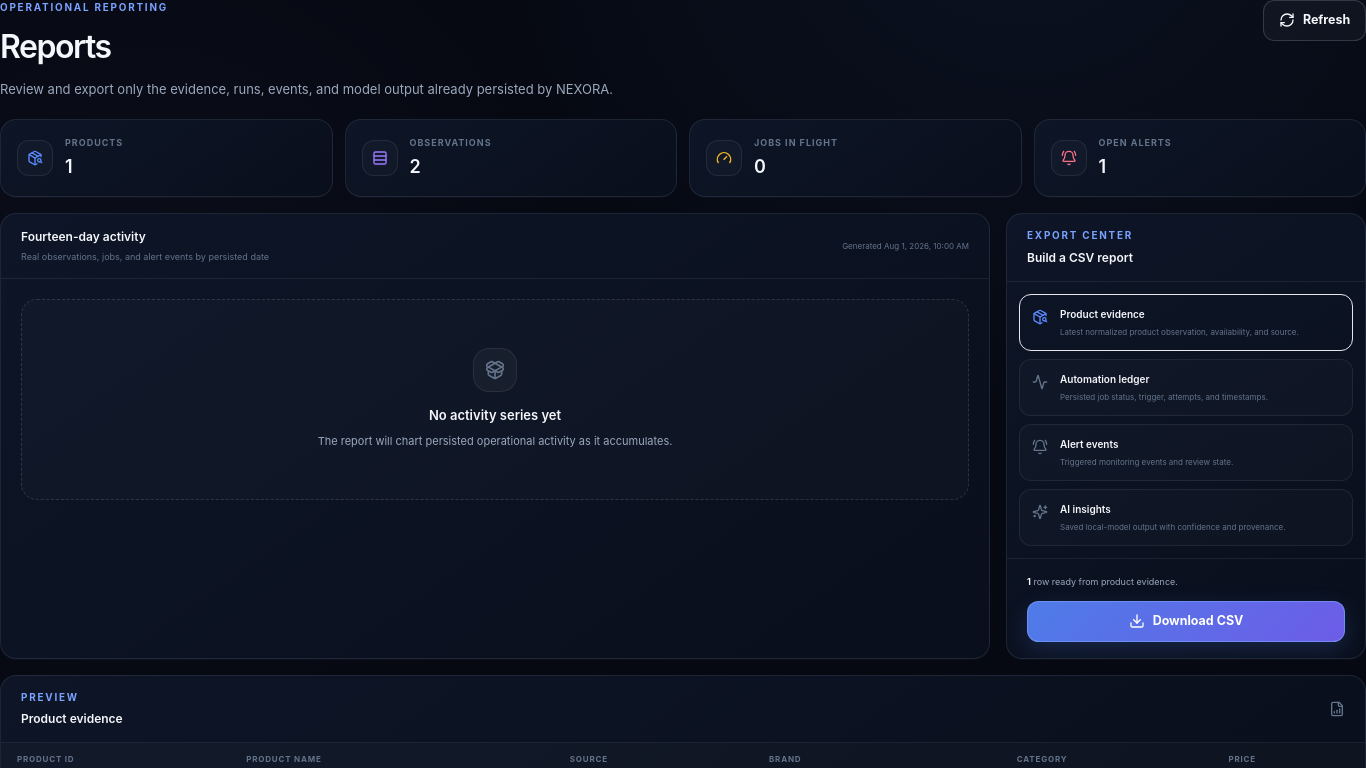
it: commerce workspaces › previews persisted operational reports and switches export datasets
The width and height of the screenshot is (1366, 768).
expect the heading "Reports" is shown: met, box [0, 27, 111, 66]
expect the text "Product evidence" is shown: met, box [1060, 308, 1145, 320]
Click the button "Automation ledger".
click(1105, 379)  # box [1019, 359, 1353, 416]
(page scrolled)
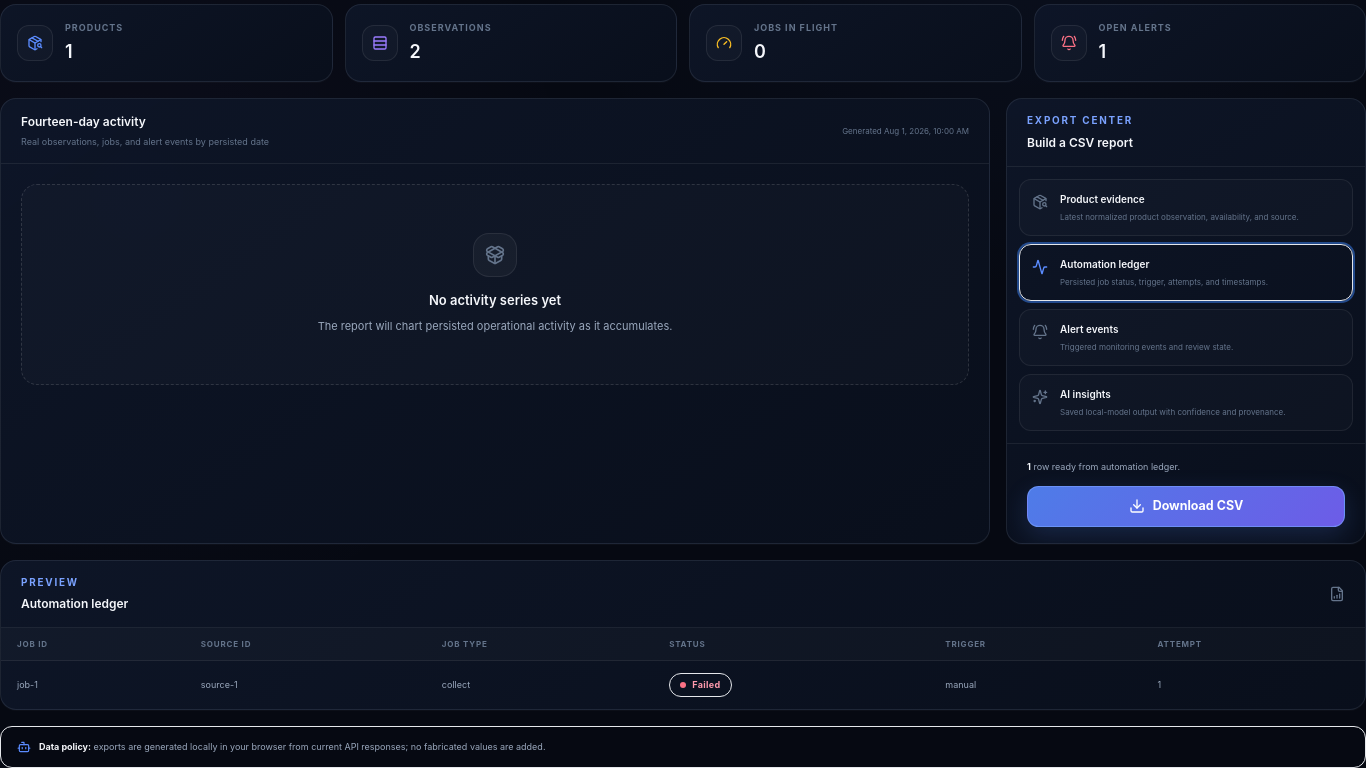
expect the text "job-1" is shown: met, box [1, 661, 185, 709]
expect the text "failed" is shown: met, box [669, 673, 732, 697]
